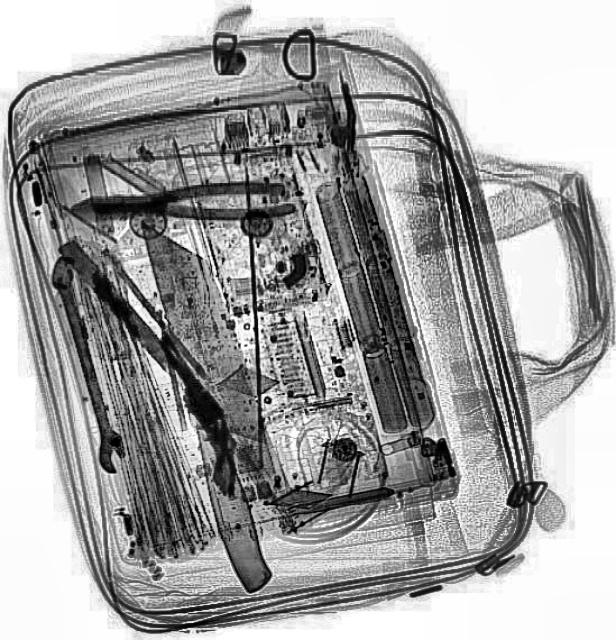Knife: (141, 210, 291, 600)
Pliers: (64, 178, 294, 226)
Wrench: (44, 253, 130, 475)
